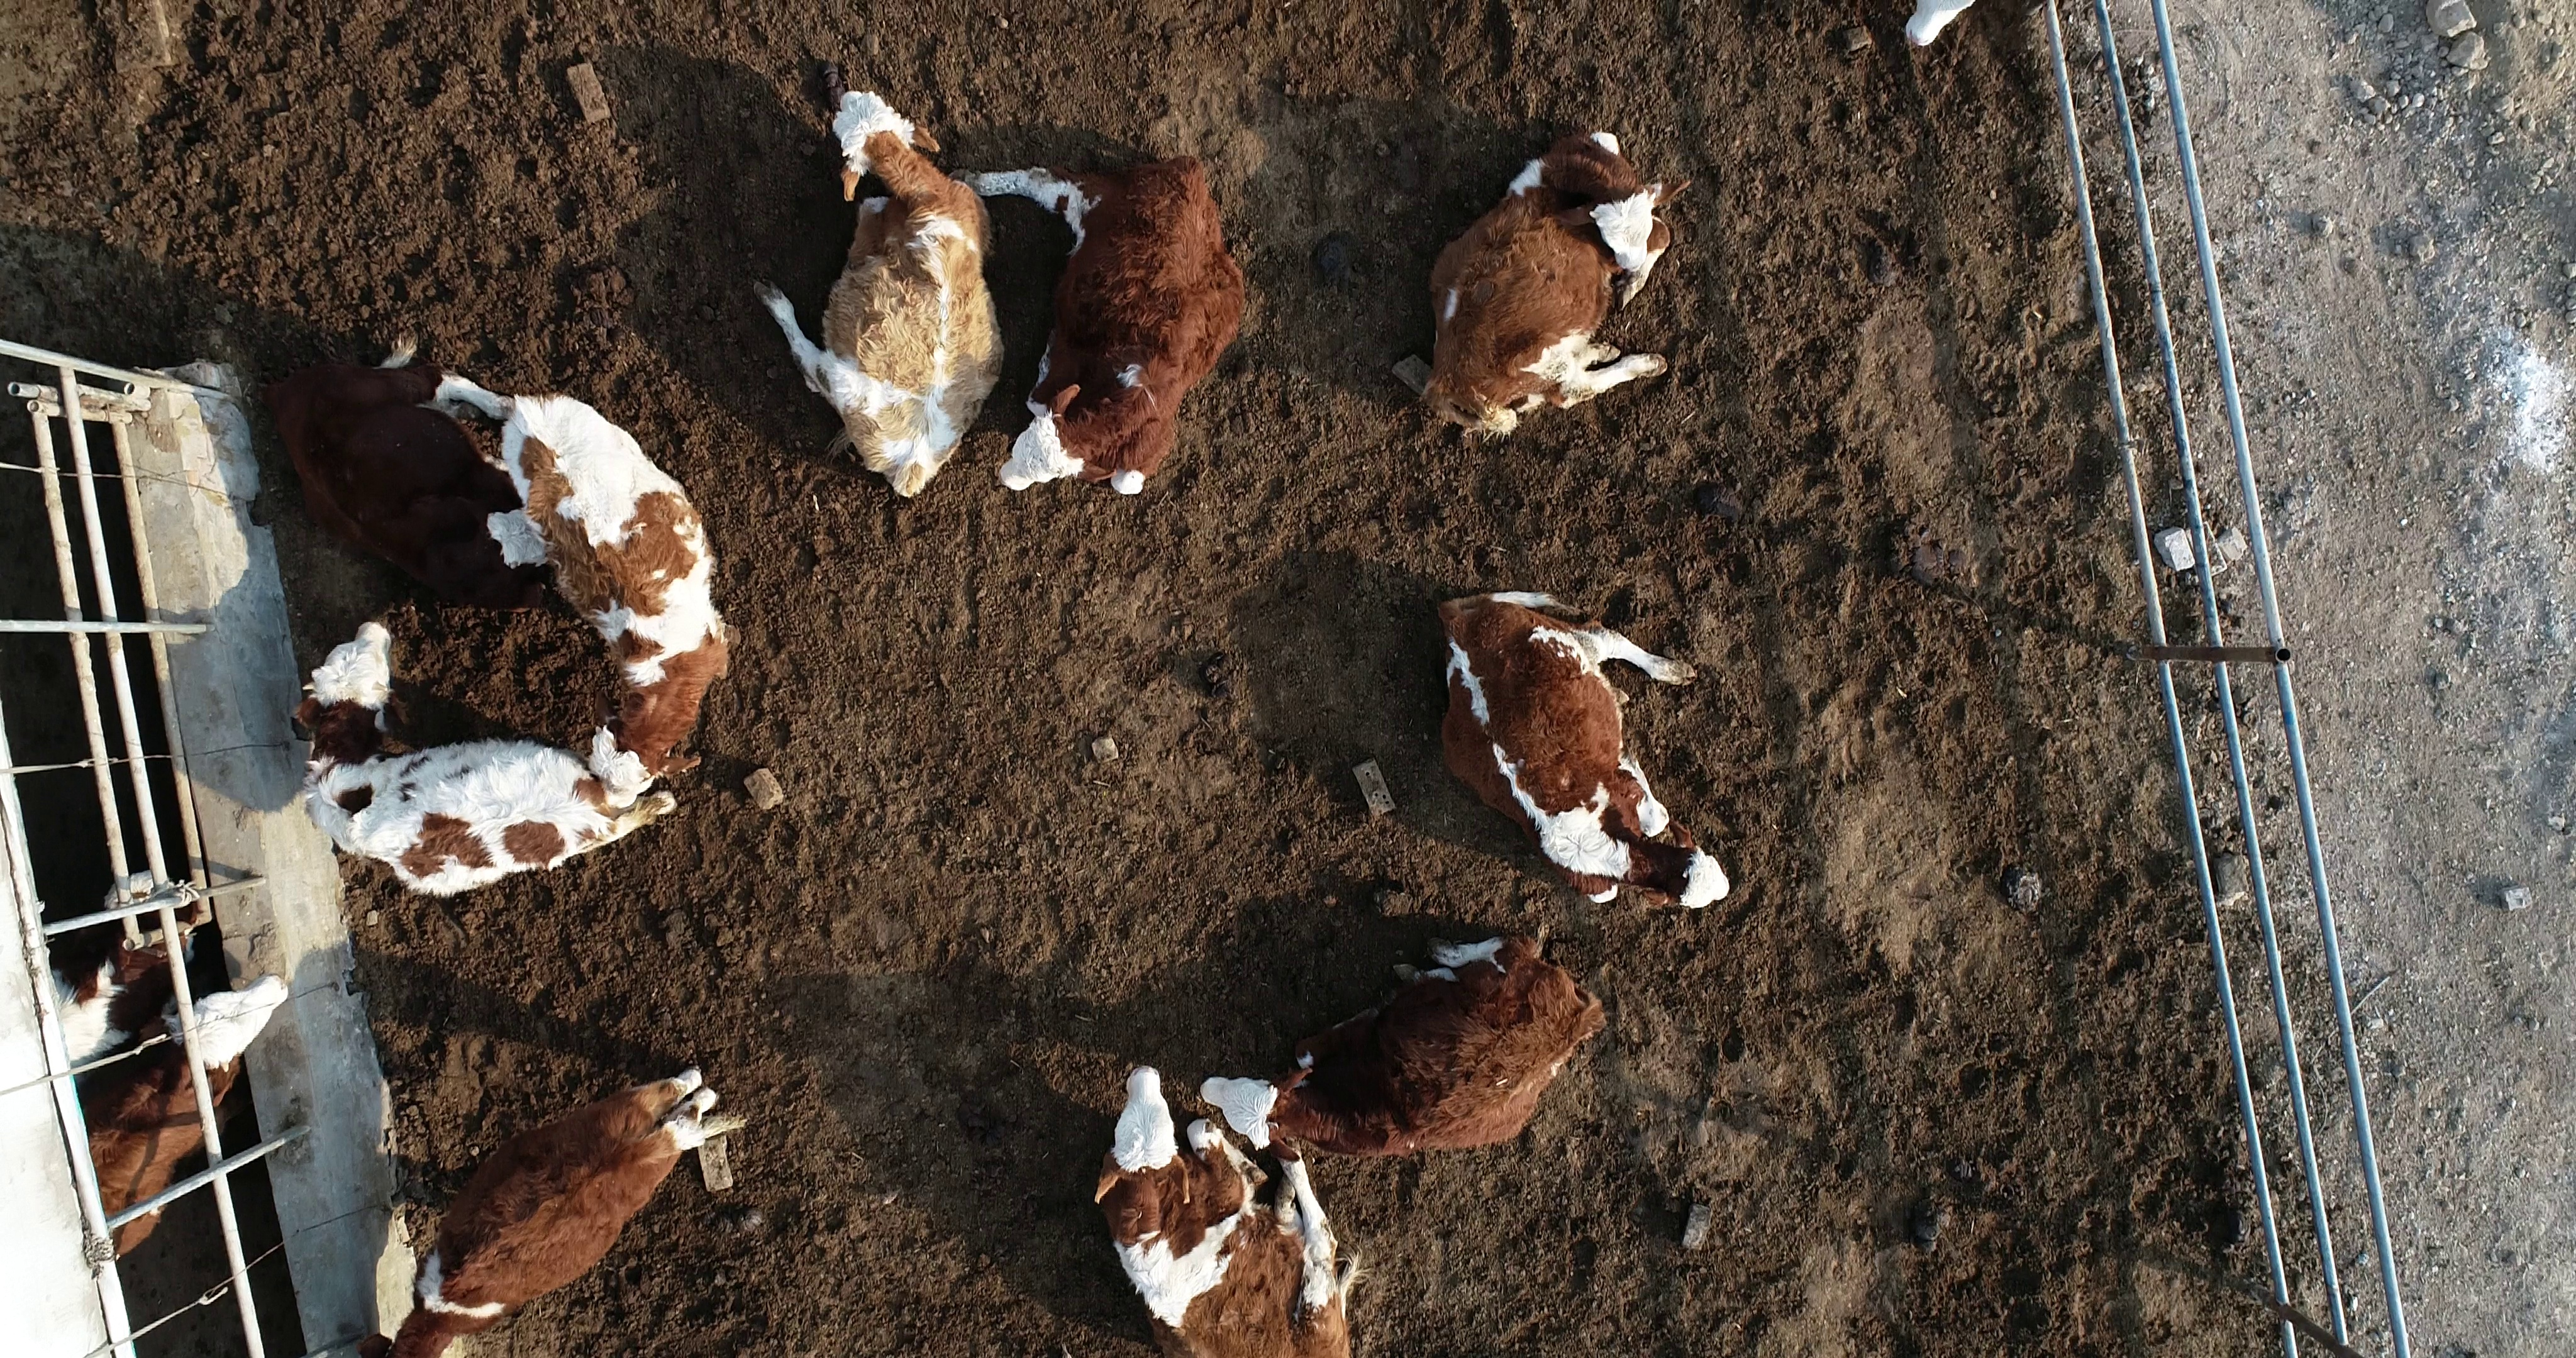cattle: (748, 83, 1014, 511), (285, 620, 680, 906), (949, 147, 1251, 508), (496, 388, 748, 818), (1433, 588, 1734, 915), (1417, 128, 1700, 443)
